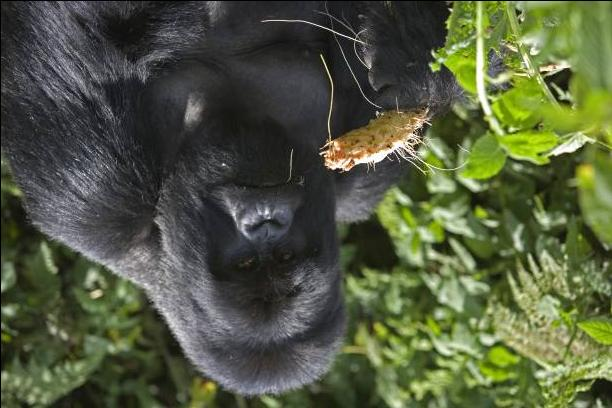goriile_montagne: (0, 0, 394, 395)
